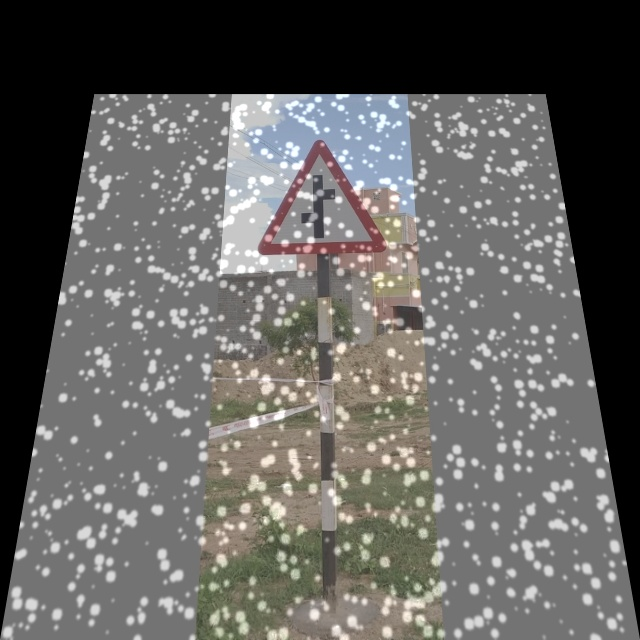Staggered_Intersection: (257, 133, 391, 261)
